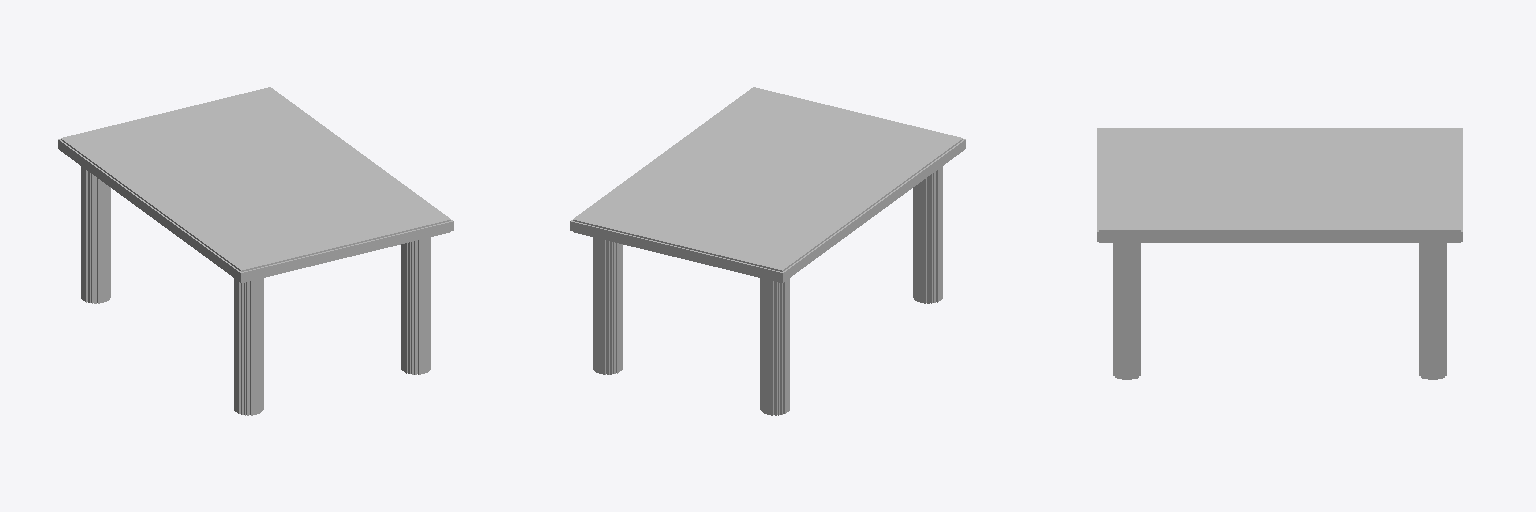
The model's file is стол.obj.
3 renders of one model, left to right at view 1: azimuth 30°, elevation 25°; view 2: azimuth 150°, elevation 25°; view 3: azimuth 270°, elevation 25°, orthographic.
Parts seen in each view (by area): view 1: object 1; view 2: object 1; view 3: object 1.
Boxes of the visible parts, box(x1,y1,x2,y2) form: object 1: box(58, 87, 453, 415); object 1: box(570, 87, 965, 415); object 1: box(1097, 128, 1462, 379).
Size of the model in its own units: 14 by 9.7 by 20.8.